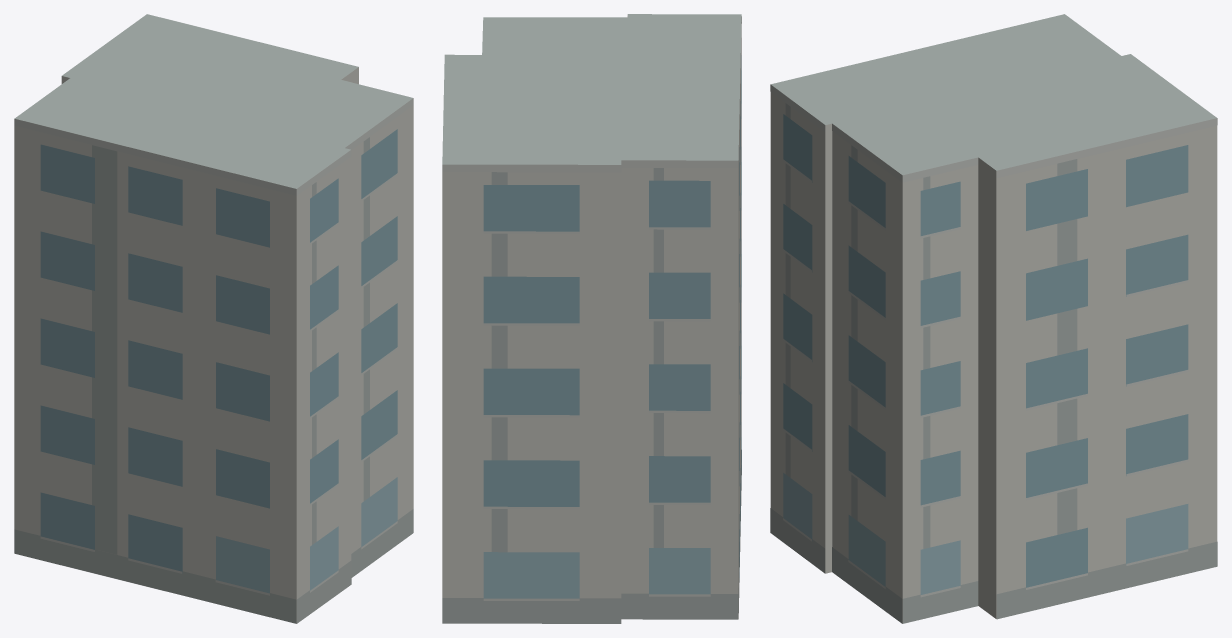
The model's file is survey-upis-32698799.glb.
3 renders of one model, left to right at view 1: azimuth 30°, elevation 25°; view 2: azimuth 150°, elevation 25°; view 3: azimuth 270°, elevation 25°, orthographic. The views are drawn at different scales.
Visible parts, largest first — view 1: survey-upis-32698799.tmp; view 2: survey-upis-32698799.tmp; view 3: survey-upis-32698799.tmp.
Part boxes in pixels (bbox=[...]): survey-upis-32698799.tmp: bbox=[14, 14, 413, 623]; survey-upis-32698799.tmp: bbox=[442, 14, 741, 623]; survey-upis-32698799.tmp: bbox=[770, 14, 1217, 623].
Size of the model in its own units: 11.46 by 14.85 by 13.42.
